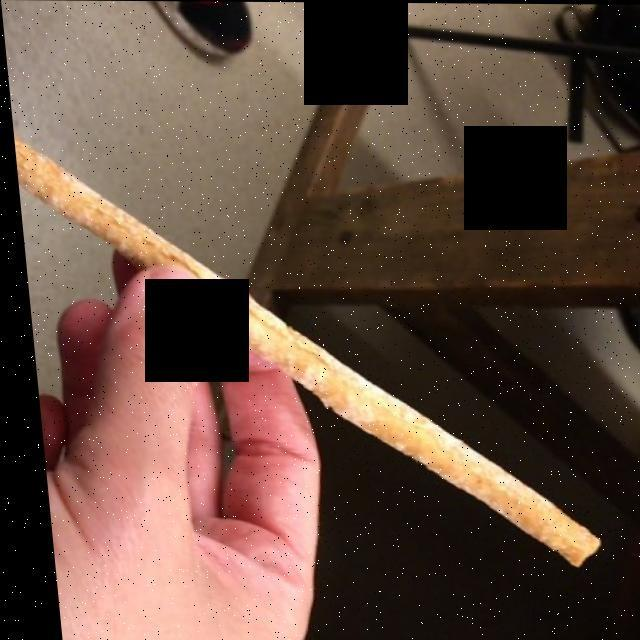grissini: (39, 176, 569, 537)
